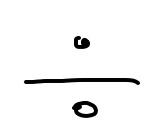div: (24, 34, 141, 118)
